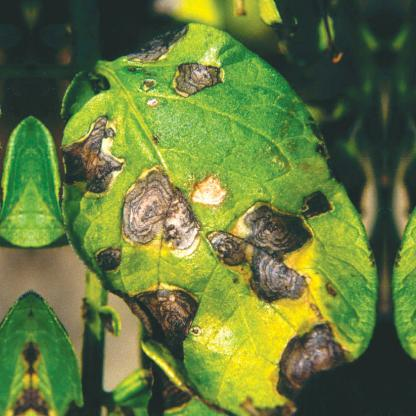Early-Blight: (50, 21, 380, 416)
